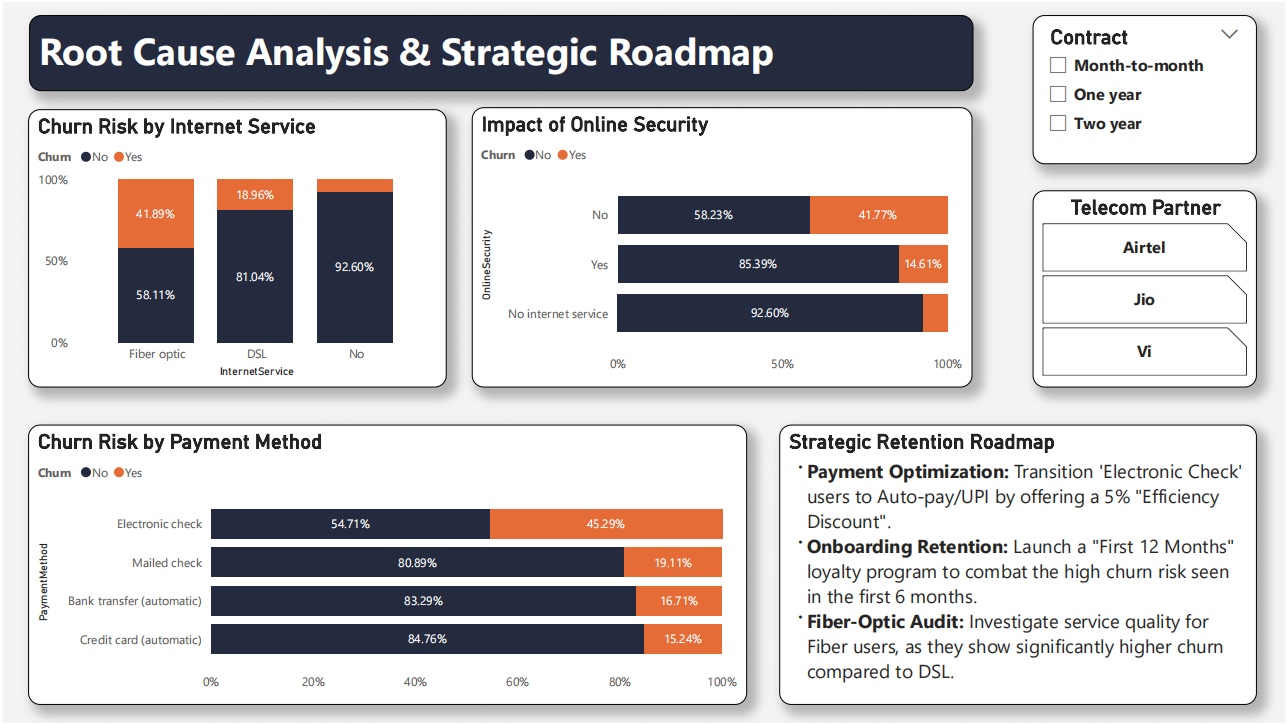

Layout of this report page (visuals, bound fields, positions):
{"tool":"powerbi","page":{"name":"Page 2","canvas":[1280,720],"ordinal":1},"visuals":[{"type":"hundredPercentStackedColumnChart","title":"Churn Risk by Internet Service","fields":{"Category":["WA_Fn-UseC_-Telco-Customer-Chur.InternetService"],"Y":["Count(WA_Fn-UseC_-Telco-Customer-Chur.customerID)"],"Series":["WA_Fn-UseC_-Telco-Customer-Chur.Churn"]},"box":[25,106.7,418.3,278.3],"z":0},{"type":"hundredPercentStackedBarChart","title":"Impact of Online Security","fields":{"Category":["WA_Fn-UseC_-Telco-Customer-Chur.OnlineSecurity"],"Y":["Count(WA_Fn-UseC_-Telco-Customer-Chur.customerID)"],"Series":["WA_Fn-UseC_-Telco-Customer-Chur.Churn"]},"box":[468.3,105,500,280],"z":1000},{"type":"hundredPercentStackedBarChart","title":"Churn Risk by Payment Method","fields":{"Category":["WA_Fn-UseC_-Telco-Customer-Chur.PaymentMethod"],"Y":["Count(WA_Fn-UseC_-Telco-Customer-Chur.customerID)"],"Series":["WA_Fn-UseC_-Telco-Customer-Chur.Churn"]},"box":[25,421.7,718.3,280],"z":2000},{"type":"slicer","title":"Contract","fields":{"Values":["WA_Fn-UseC_-Telco-Customer-Chur.Contract"]},"box":[1028.3,13.3,223.3,148.3],"z":3000},{"type":"advancedSlicerVisual","fields":{"Values":["WA_Fn-UseC_-Telco-Customer-Chur.Telecom Partner"]},"box":[1028.3,188.3,223.3,196.7],"z":4000},{"type":"textbox","box":[25.7,12.9,942.9,75.7],"z":5000},{"type":"textbox","title":"Strategic Retention Roadmap","box":[775,421.7,476.7,280],"z":6000}]}

Visuals, with their boxes in screenshot pixels (x1, y1, x2, y2), scaled from the page's 1280x720 canvas onto the 1287x724 screenshot:
"Churn Risk by Internet Service" hundredPercentStackedColumnChart: {"left": 25, "top": 107, "right": 446, "bottom": 387}
"Impact of Online Security" hundredPercentStackedBarChart: {"left": 471, "top": 106, "right": 974, "bottom": 387}
"Churn Risk by Payment Method" hundredPercentStackedBarChart: {"left": 25, "top": 424, "right": 747, "bottom": 706}
"Contract" slicer: {"left": 1034, "top": 13, "right": 1258, "bottom": 162}
advancedSlicerVisual - WA_Fn-UseC_-Telco-Customer-Chur.Telecom Partner: {"left": 1034, "top": 189, "right": 1258, "bottom": 387}
textbox: {"left": 26, "top": 13, "right": 974, "bottom": 89}
"Strategic Retention Roadmap" textbox: {"left": 779, "top": 424, "right": 1259, "bottom": 706}
